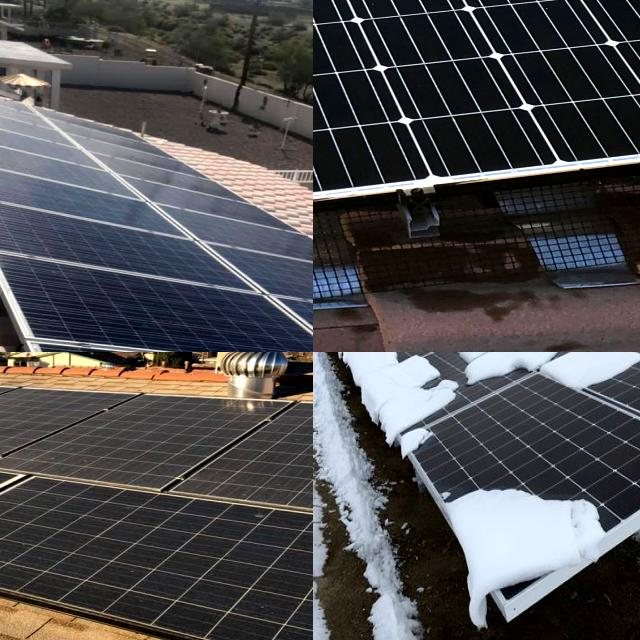crack: (313, 0, 640, 223)
panel: (442, 466, 616, 608), (358, 352, 465, 424), (459, 352, 541, 401), (544, 352, 640, 385), (396, 352, 501, 382), (518, 352, 588, 390), (575, 352, 640, 380), (582, 352, 640, 382), (352, 352, 408, 382), (313, 352, 366, 382)
